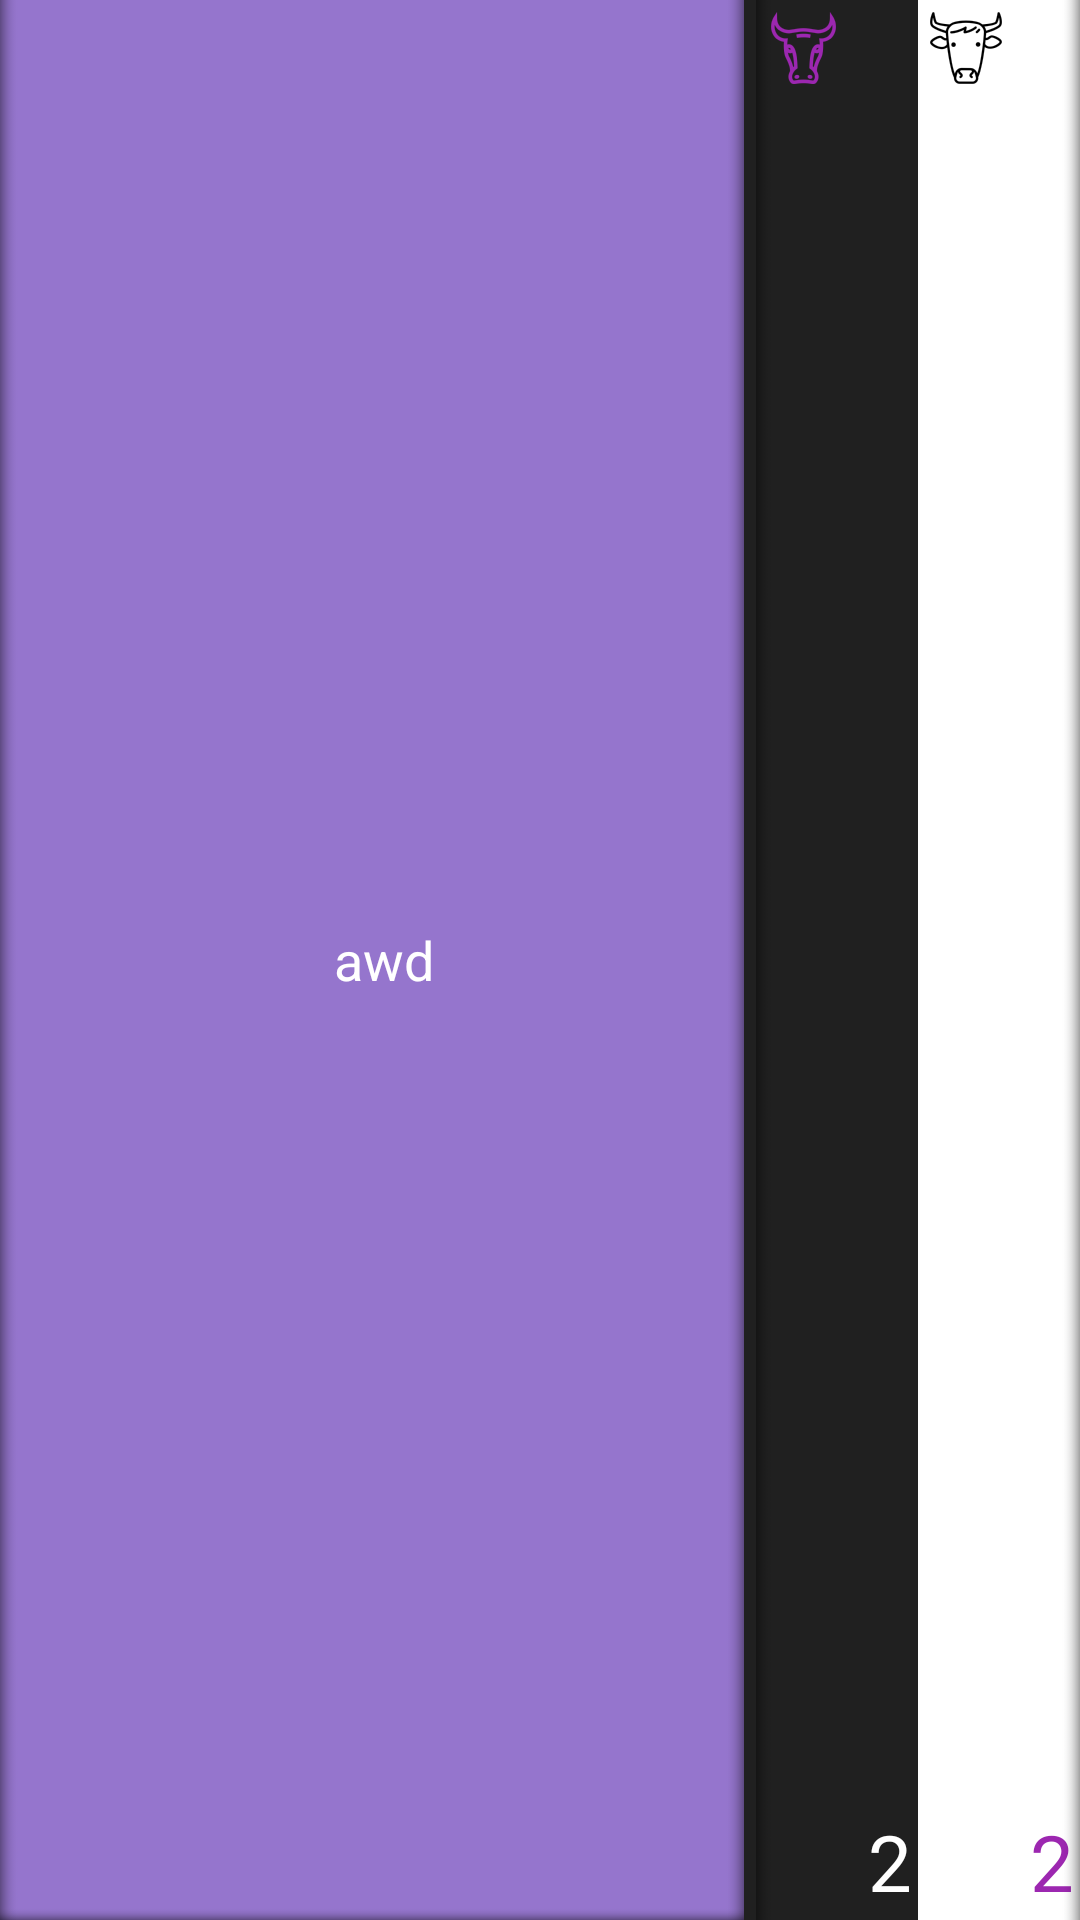

Where to tap for icons on this 1080 x 1920 app screen, as (x,y):
bull: (803,48)
cow: (966,48)
